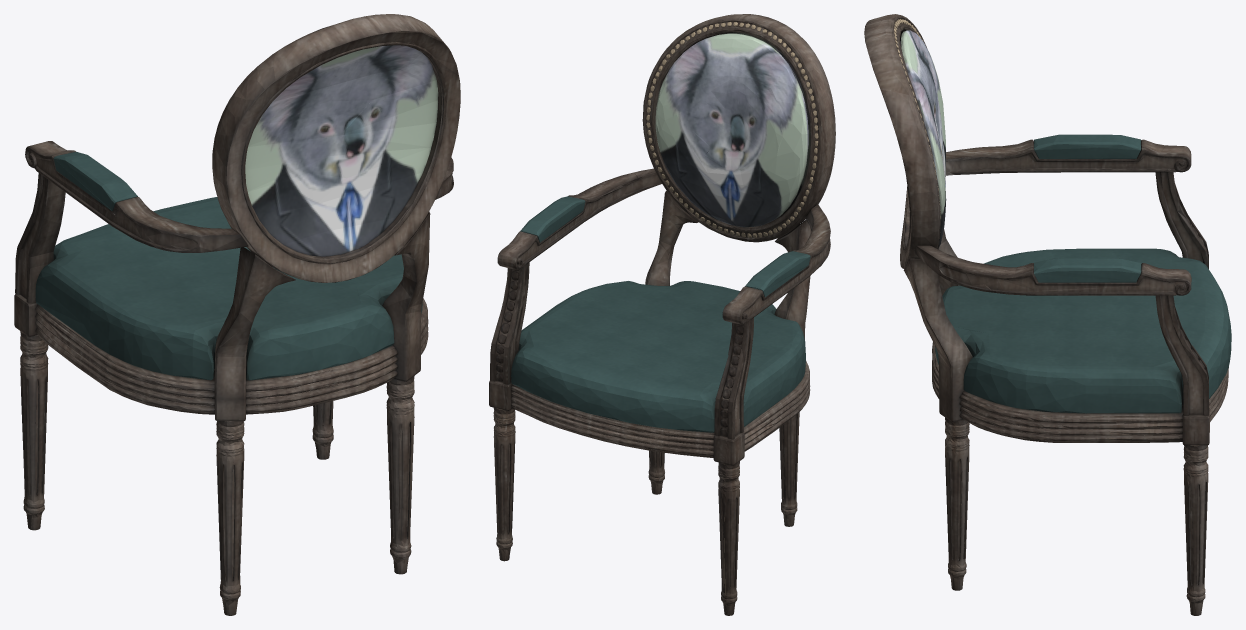
3 views of the same model, side by side, from view 1: azimuth 30°, elevation 25°; view 2: azimuth 150°, elevation 25°; view 3: azimuth 270°, elevation 25° (orthographic). The views are drawn at different scales.
Visible parts, largest first — view 1: solid_001_wire; view 2: solid_001_wire; view 3: solid_001_wire.
Part boxes in pixels (bbox=[...]): solid_001_wire: bbox=[14, 14, 460, 615]; solid_001_wire: bbox=[489, 14, 835, 615]; solid_001_wire: bbox=[864, 14, 1231, 615].
Bounding box in the file's own units: 0.5168 × 0.9403 × 0.5956.
Materials: 1 (1 with a texture image).
